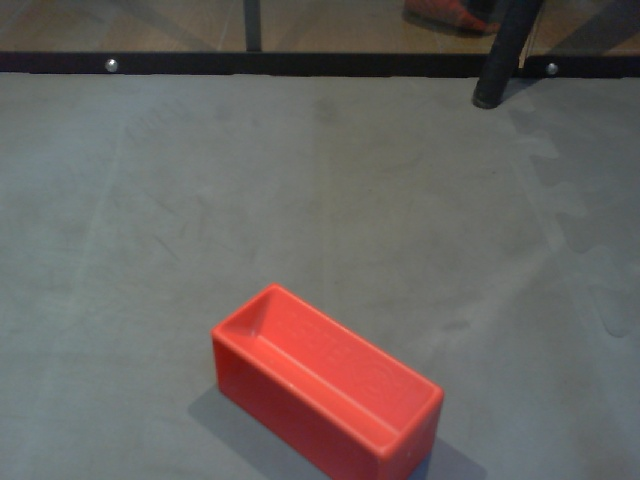RedSample: (212, 283, 448, 480)
